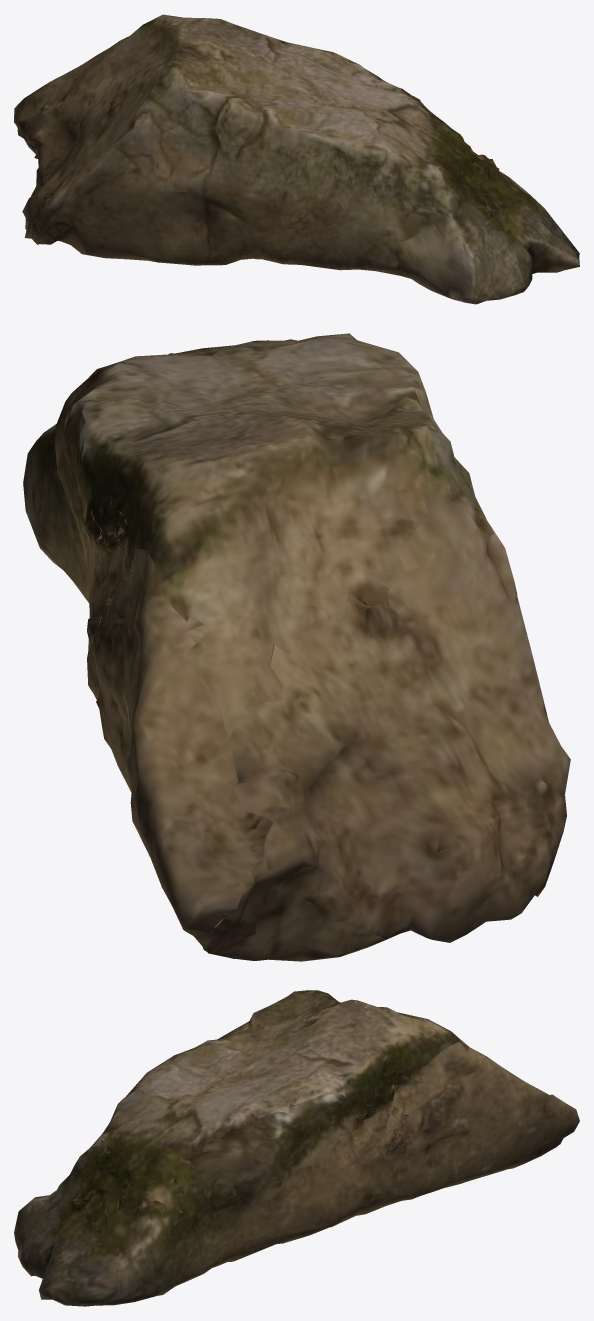
The model's file is rock_moss_set_01_1.glb.
The picture shows the model from 3 angles, top to bottom: view 1: azimuth 30°, elevation 25°; view 2: azimuth 150°, elevation 25°; view 3: azimuth 270°, elevation 25°; orthographic projection. The views are drawn at different scales.
Parts seen in each view (by area): view 1: rock_moss_set_01_rock02; view 2: rock_moss_set_01_rock02; view 3: rock_moss_set_01_rock02.
Part boxes in pixels (x1,y1,x2,y2): rock_moss_set_01_rock02: [14, 14, 579, 304]; rock_moss_set_01_rock02: [23, 333, 570, 961]; rock_moss_set_01_rock02: [14, 990, 579, 1306].
Size of the model in its own units: 2.65 by 1.26 by 3.26.
Materials: 1 (1 with a texture image).
